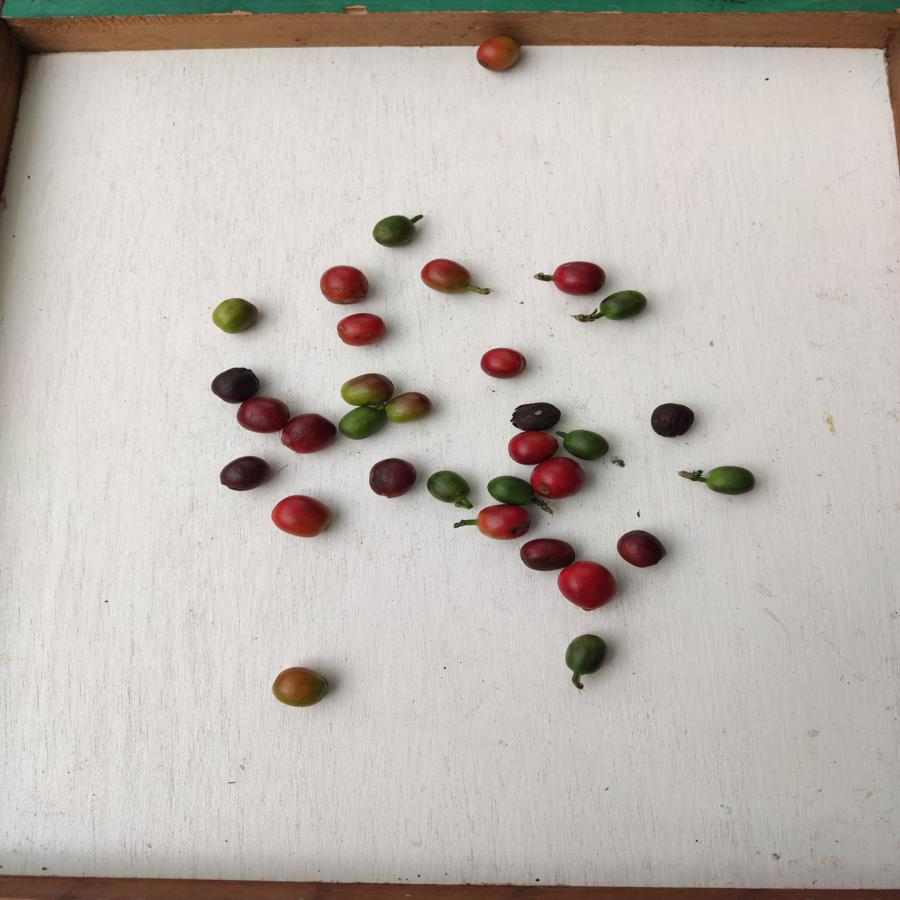Inmaduro: (425, 468, 478, 510), (597, 286, 652, 324), (334, 403, 384, 443), (700, 462, 757, 497), (566, 633, 608, 676), (562, 427, 612, 462), (370, 213, 419, 248), (485, 473, 535, 506)
Maduro: (559, 562, 619, 612), (269, 496, 333, 537), (473, 503, 533, 541), (320, 263, 371, 306), (533, 457, 584, 499), (552, 259, 612, 293), (335, 312, 388, 347), (478, 344, 527, 381), (420, 260, 473, 294), (508, 431, 558, 463)
Pinton: (269, 664, 333, 707), (477, 34, 524, 72), (211, 297, 258, 333), (340, 373, 393, 404), (386, 392, 433, 425)
Sobremaduro: (280, 413, 338, 455), (369, 453, 419, 500), (616, 527, 666, 569), (208, 366, 264, 401), (518, 538, 577, 571), (236, 397, 290, 433), (217, 455, 270, 490), (648, 401, 696, 436), (511, 403, 563, 431)
